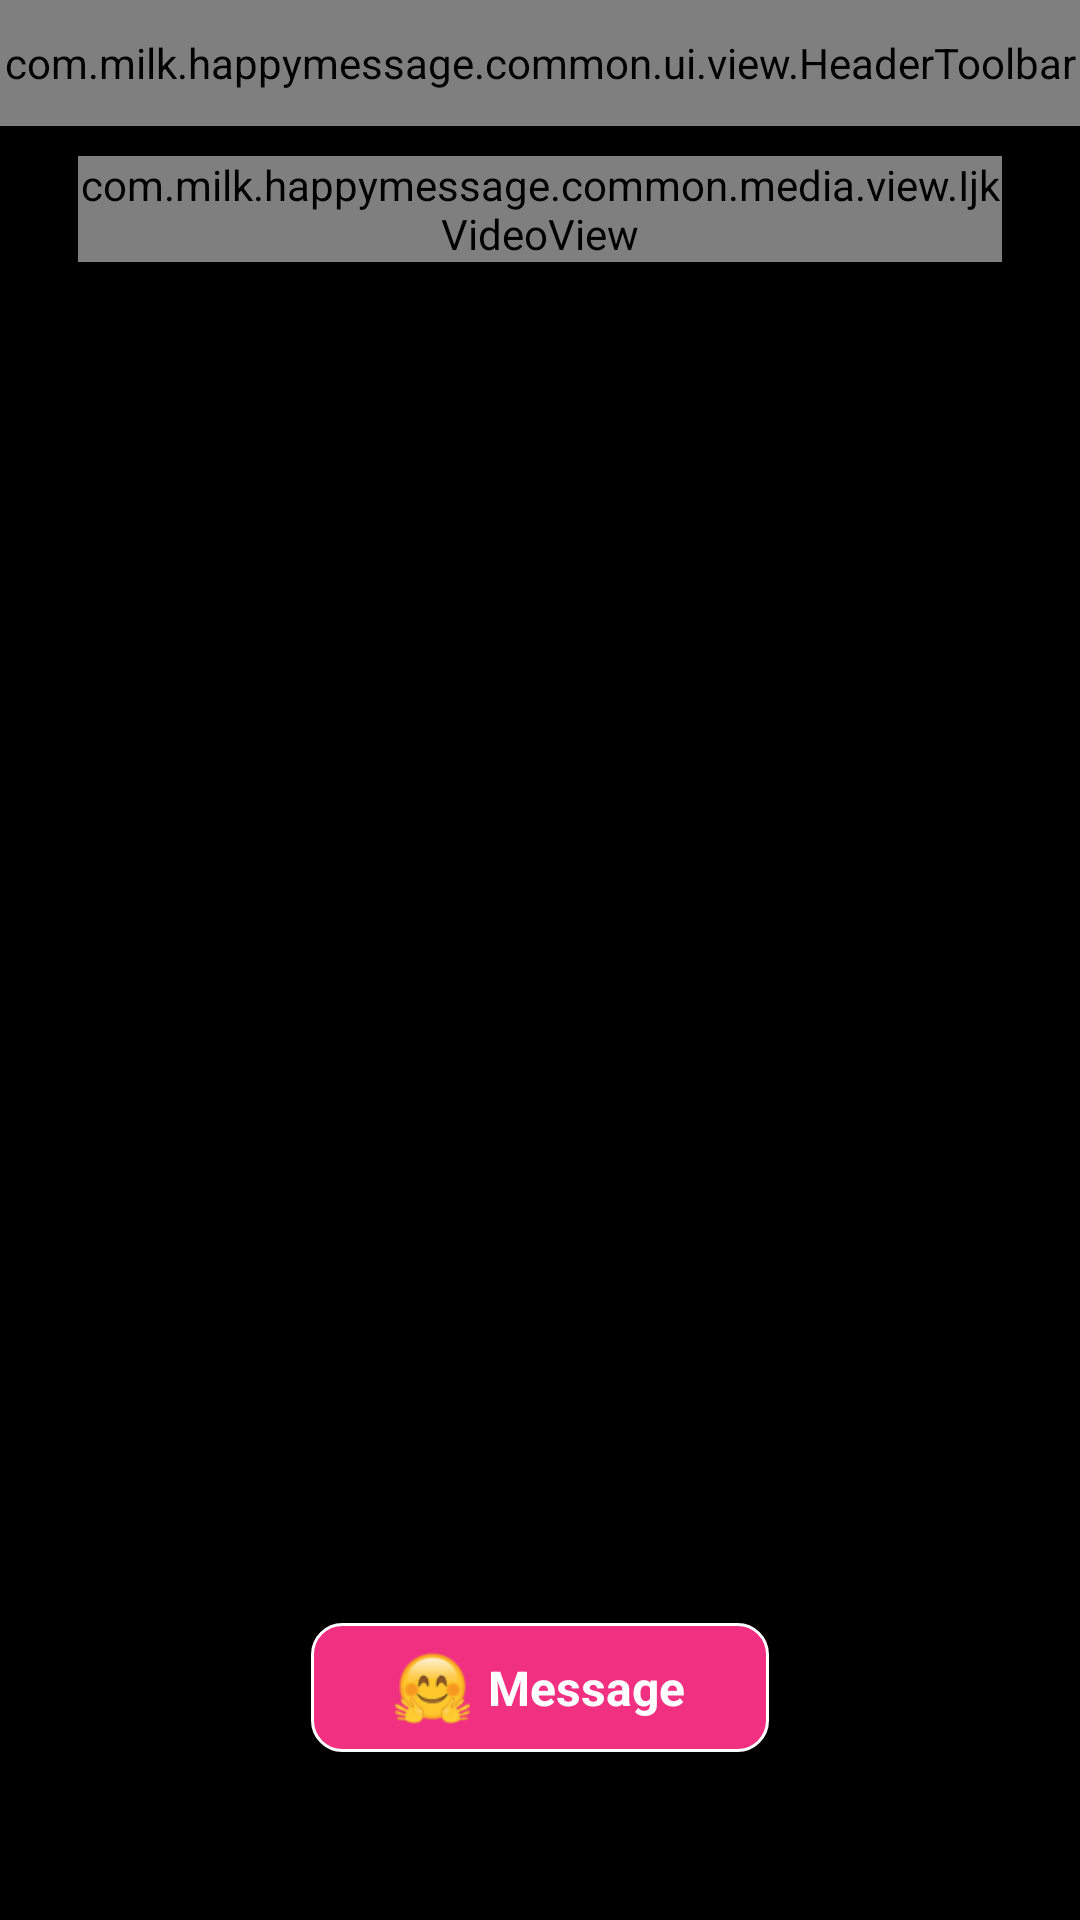

Where to tap for icons on this 1080 × 1920 app screen, as [x,y]:
smile: [432,1688]
